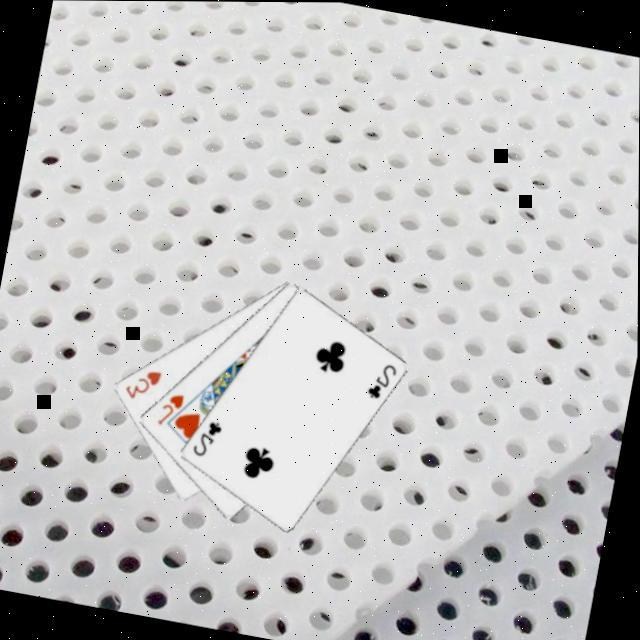2C: (190, 412, 228, 460), (364, 354, 402, 402)
3H: (120, 360, 166, 404)
JH: (153, 385, 190, 429)
